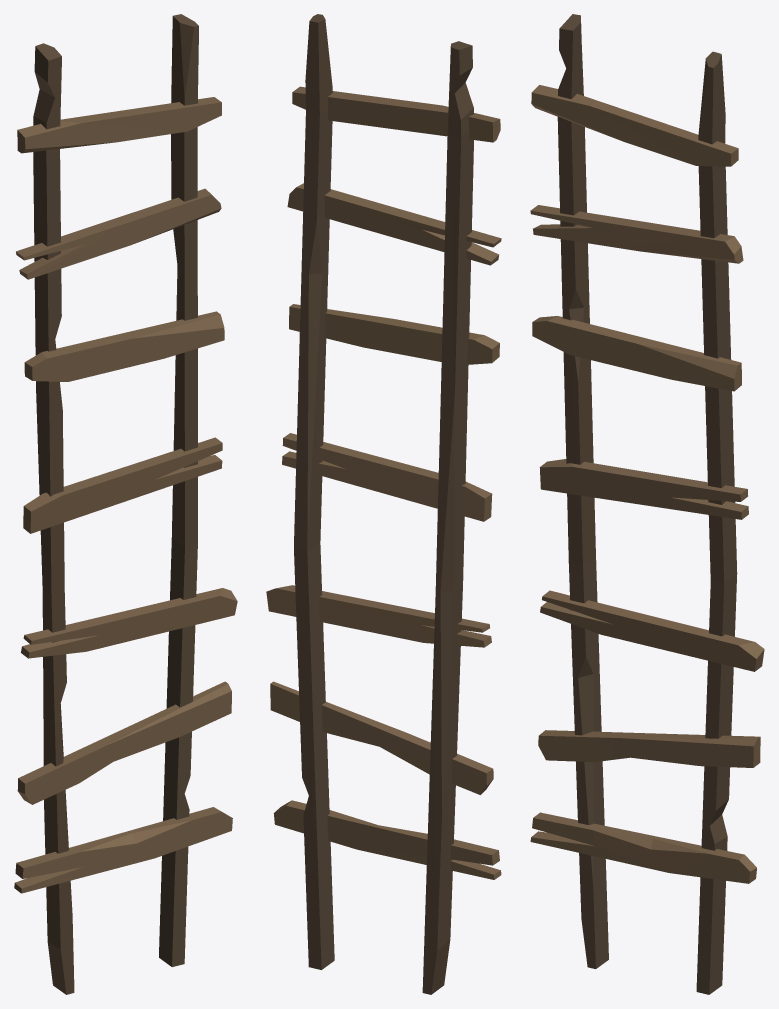
File: SM_Prop_Wooden_Ladder_01.fbx
The picture shows the model from 3 angles, left to right: view 1: azimuth 30°, elevation 25°; view 2: azimuth 150°, elevation 25°; view 3: azimuth 330°, elevation 25°; orthographic projection.
Visible parts, largest first — view 1: SM_Prop_Wooden_Ladder_01; view 2: SM_Prop_Wooden_Ladder_01; view 3: SM_Prop_Wooden_Ladder_01.
Boxes of the visible parts, x1=… form: SM_Prop_Wooden_Ladder_01: x1=14, y1=14, x2=237, y2=994; SM_Prop_Wooden_Ladder_01: x1=266, y1=14, x2=501, y2=994; SM_Prop_Wooden_Ladder_01: x1=530, y1=14, x2=764, y2=994.
Size of the model in its own units: 76.2 by 310 by 16.
1 material, 1 textured.
